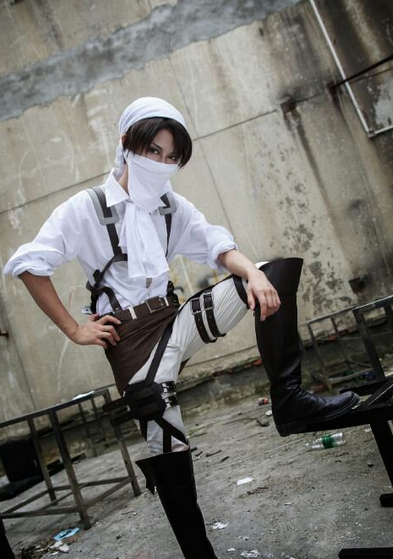face_mask: (136, 129, 175, 194)
